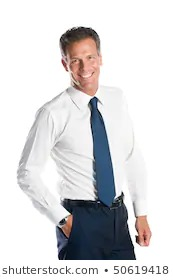F_belt: (62, 196, 125, 209)
F_dress pants: (56, 204, 136, 260)
F_shirt: (14, 87, 149, 223)
F_tie: (83, 96, 119, 205)
